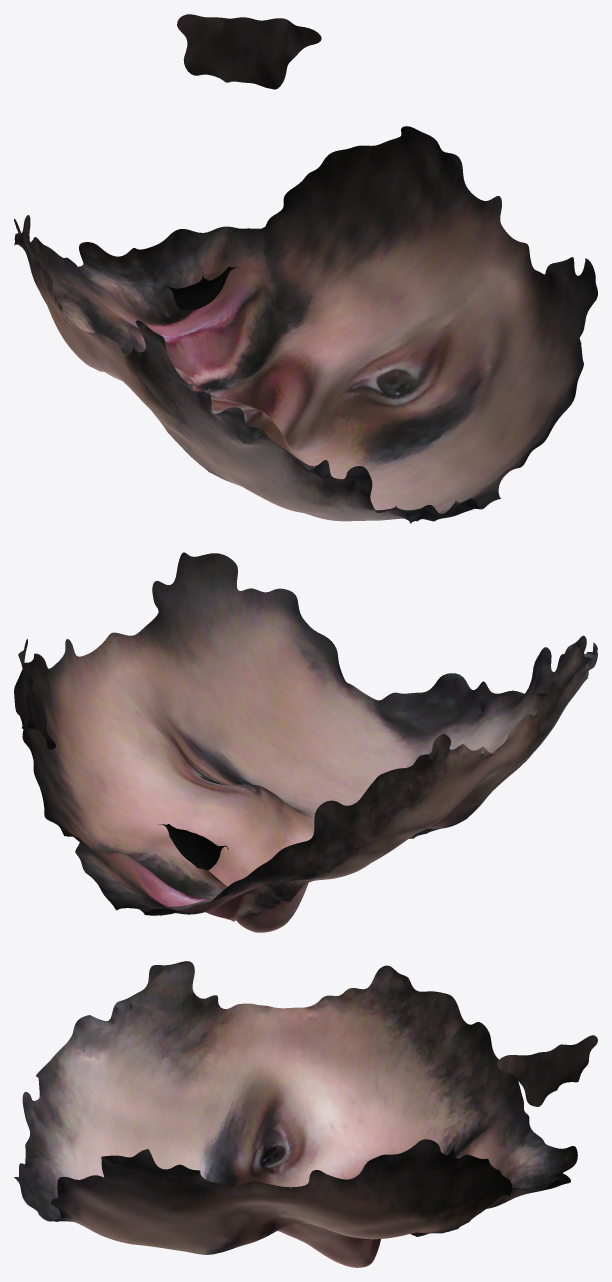
File: 3DScan.obj
3 views of the same model, one above another, from view 1: azimuth 30°, elevation 25°; view 2: azimuth 150°, elevation 25°; view 3: azimuth 270°, elevation 25° (orthographic). The views are drawn at different scales.
Bounding box in the file's own units: 0.1587 × 0.1135 × 0.2228.
1 material, 1 textured.
